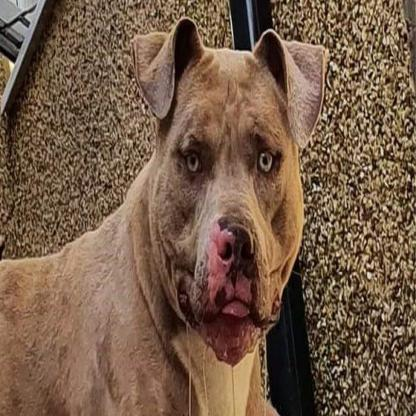dog: (26, 13, 334, 415)
